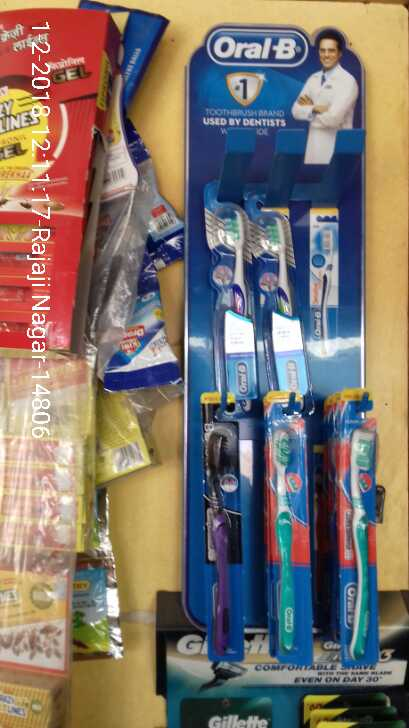oralb: (245, 183, 313, 395), (263, 388, 315, 663), (199, 393, 246, 658), (340, 385, 383, 662), (204, 182, 258, 397)
